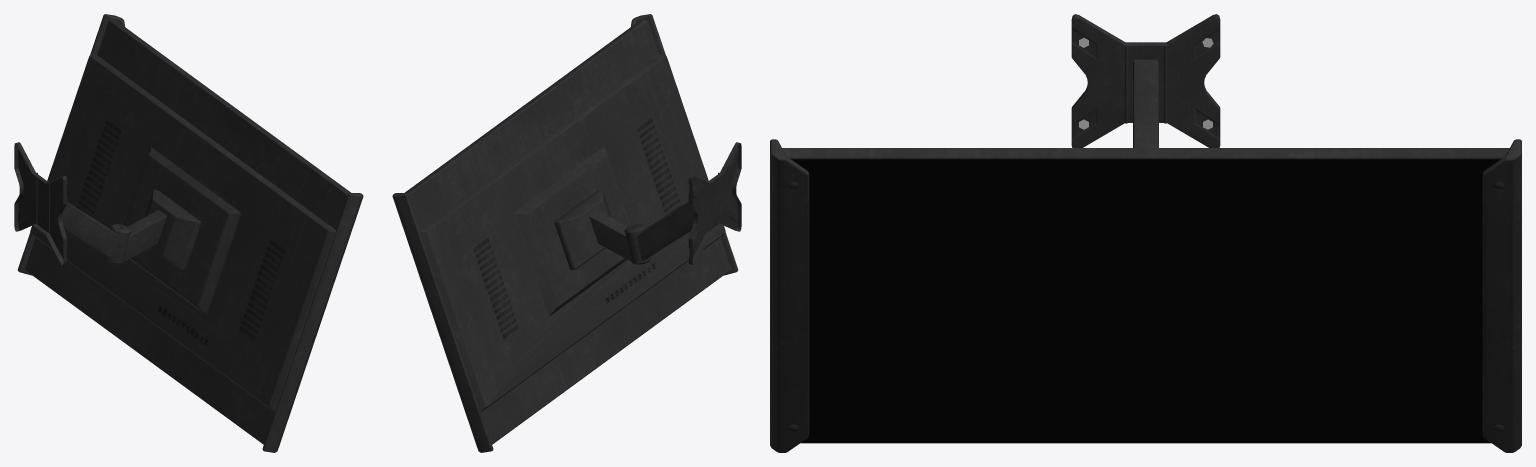
File: Screen_5.fbx
The picture shows the model from 3 angles, left to right: view 1: azimuth 30°, elevation 25°; view 2: azimuth 150°, elevation 25°; view 3: azimuth 270°, elevation 25°; orthographic projection. The views are drawn at different scales.
Visible parts, largest first — view 1: Circle.005, Cylinder.044; view 2: Circle.005, Cylinder.044; view 3: Circle.005, Cylinder.044.
Boxes of the visible parts, x1,y1,x2,y2 form: Circle.005: (17, 14, 363, 452); Cylinder.044: (14, 142, 201, 270); Circle.005: (392, 14, 738, 452); Cylinder.044: (554, 142, 741, 270); Circle.005: (770, 139, 1521, 452); Cylinder.044: (1071, 14, 1220, 147).
Size of the model in its own units: 171 by 194 by 359.
